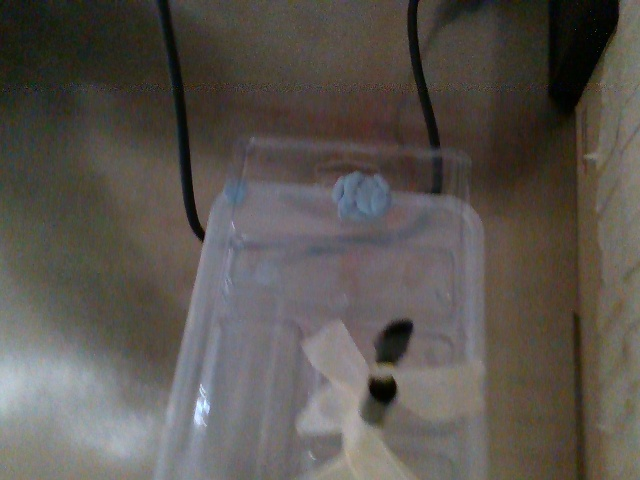test_strip: (368, 318, 411, 377)
